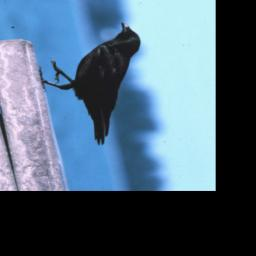Crow: (27, 19, 167, 152)
